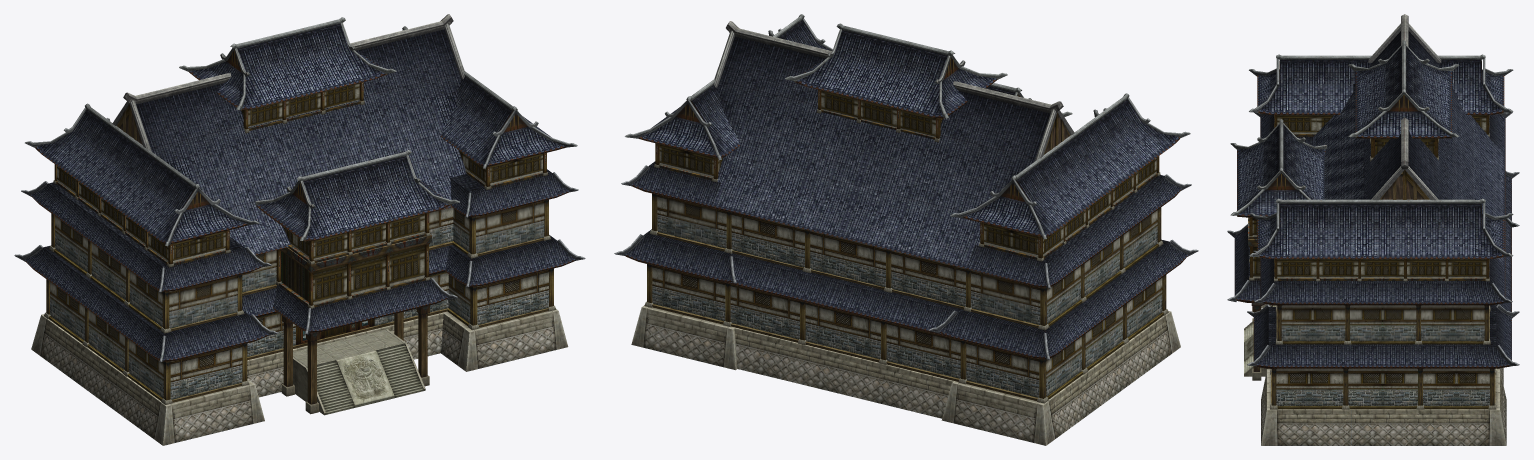
Rendered from b1-006-castle.fbx.
3 views of the same model, side by side, from view 1: azimuth 30°, elevation 25°; view 2: azimuth 150°, elevation 25°; view 3: azimuth 270°, elevation 25° (orthographic). The views are drawn at different scales.
Parts seen in each view (by area): view 1: b1-006-castle-01, b1-006-castle-02, b1-006-castle-04, b1-006-castle-03, b1-006-castle-05; view 2: b1-006-castle-01, b1-006-castle-04, b1-006-castle-02, b1-006-castle-05, b1-006-castle-03; view 3: b1-006-castle-02, b1-006-castle-01, b1-006-castle-04, b1-006-castle-05, b1-006-castle-03.
Boxes of the visible parts, <box> form: b1-006-castle-01: <box>24,14,574,361</box>; b1-006-castle-02: <box>35,17,565,308</box>; b1-006-castle-04: <box>14,172,585,404</box>; b1-006-castle-03: <box>25,30,577,415</box>; b1-006-castle-05: <box>31,305,568,445</box>; b1-006-castle-01: <box>625,21,1188,359</box>; b1-006-castle-04: <box>614,165,1198,403</box>; b1-006-castle-02: <box>639,14,1180,261</box>; b1-006-castle-05: <box>631,305,1180,445</box>; b1-006-castle-03: <box>625,18,1190,256</box>; b1-006-castle-02: <box>1230,40,1504,281</box>; b1-006-castle-01: <box>1234,14,1511,368</box>; b1-006-castle-04: <box>1227,112,1519,409</box>; b1-006-castle-05: <box>1251,303,1506,445</box>; b1-006-castle-03: <box>1244,58,1513,376</box>.
Size of the model in its own units: 42.29 by 29.42 by 27.03.
